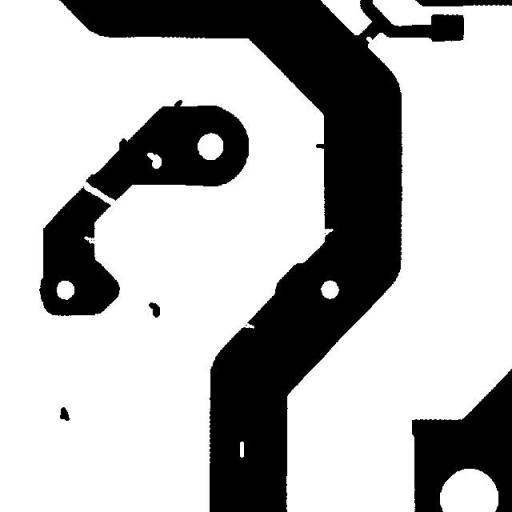copper: (141, 294, 167, 325), (52, 399, 77, 428)
mousebite: (306, 221, 341, 247), (76, 228, 102, 251), (235, 314, 262, 336), (358, 29, 380, 50)
open: (74, 174, 125, 214)
pin-hole: (139, 145, 169, 176), (232, 434, 251, 464)
spur: (166, 92, 190, 117), (112, 130, 134, 157), (308, 136, 335, 157)
